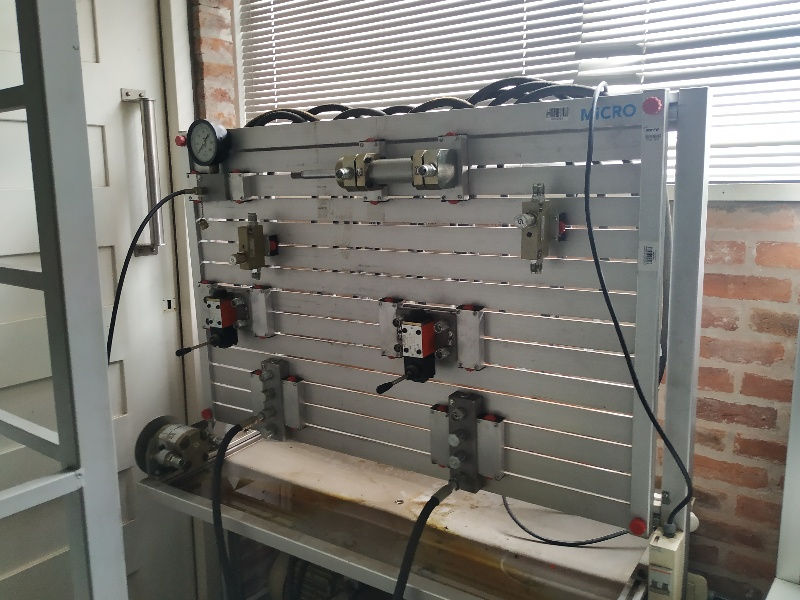Tablero 5: (178, 135, 668, 545)
